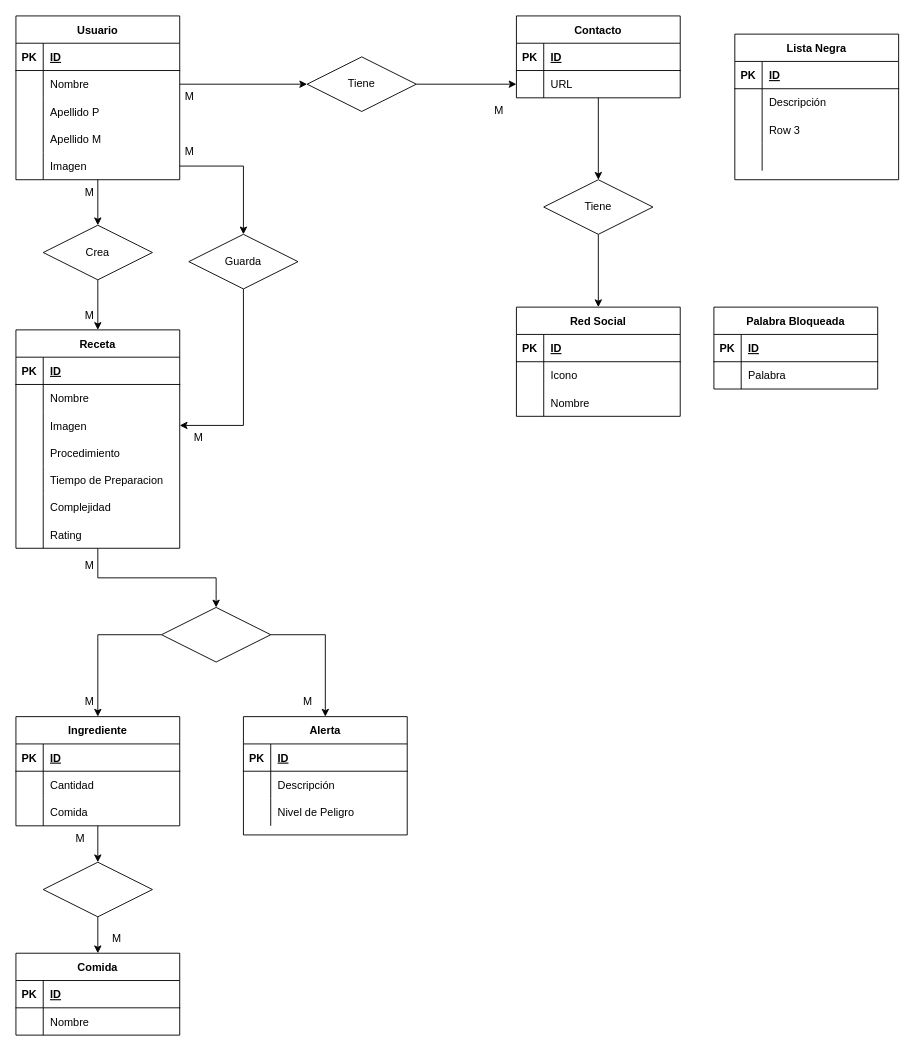
Some shapes in this 915 by 1051 pixel diagram are drawn without their labels. The centre of each missing label's shape, as x and y in pixels:
Contiene: pixel 97 889
Incluye: pixel 216 634
